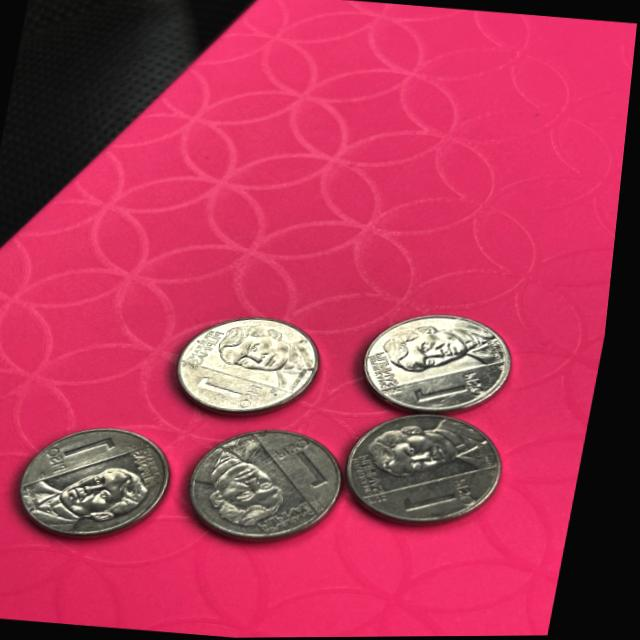1_New_Front: (413, 465, 498, 519), (52, 428, 136, 480), (427, 363, 502, 415), (287, 438, 341, 490), (188, 374, 267, 401)
